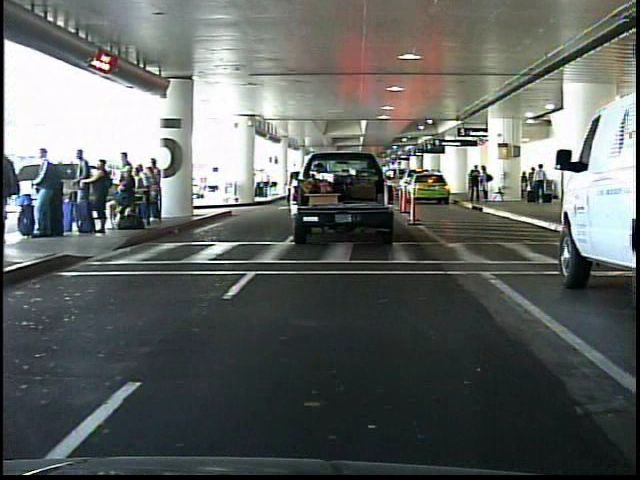person: (477, 165, 492, 204), (467, 163, 480, 204)
